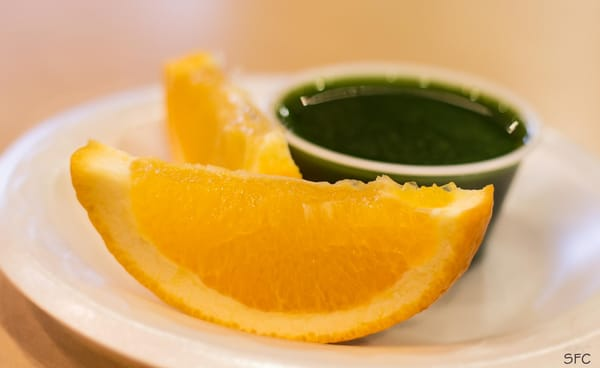sushi: (270, 59, 544, 191)
taco: (67, 138, 486, 343), (162, 51, 304, 179)
